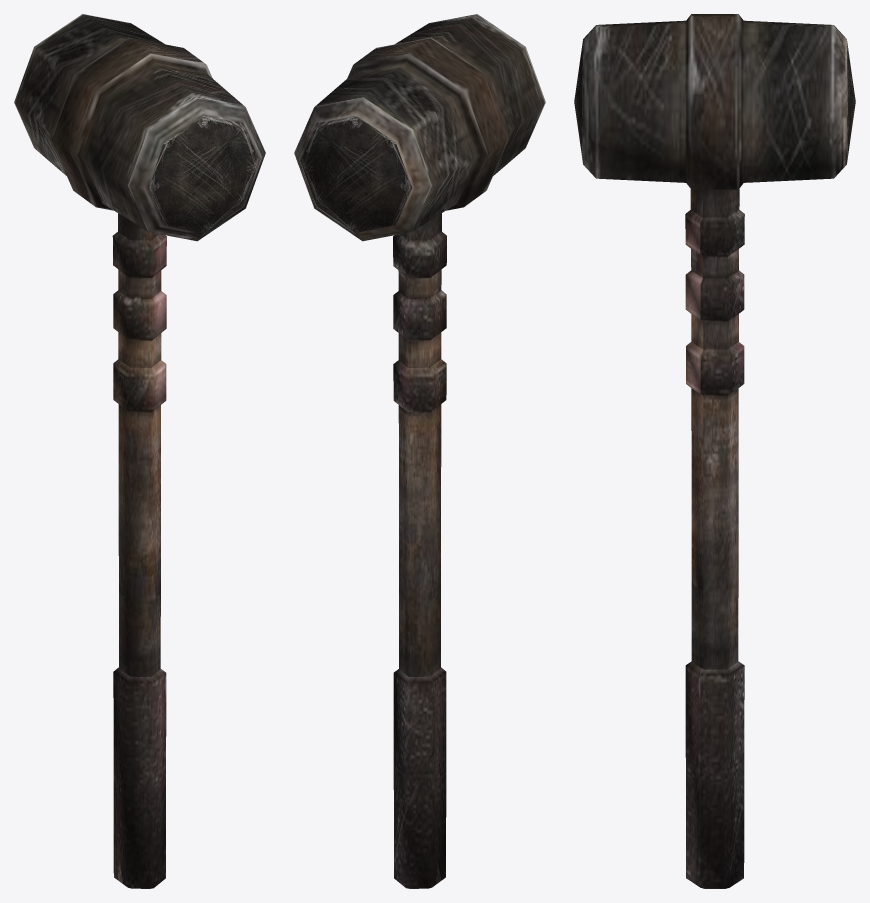
The model's file is weapons_hammer04.glb.
3 views of the same model, side by side, from view 1: azimuth 30°, elevation 25°; view 2: azimuth 150°, elevation 25°; view 3: azimuth 270°, elevation 25° (orthographic). The views are drawn at different scales.
Visible parts, largest first — view 1: hammer04; view 2: hammer04; view 3: hammer04.
Boxes of the visible parts, bbox=[...] form: hammer04: bbox=[14, 14, 265, 888]; hammer04: bbox=[294, 14, 545, 888]; hammer04: bbox=[574, 14, 855, 888].
Size of the model in its own units: 0.2121 by 1.08 by 0.3196.
Materials: 1 (1 with a texture image).
